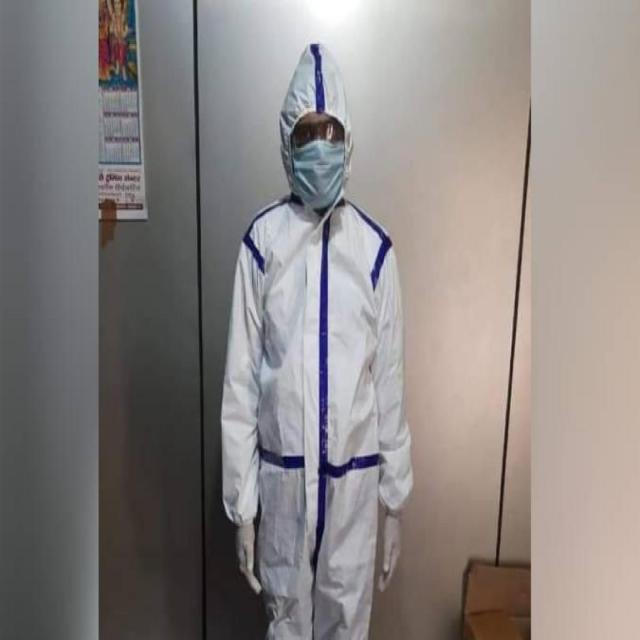Gloves: (234, 526, 263, 595), (378, 510, 402, 592)
No glasses: (288, 110, 348, 150)
